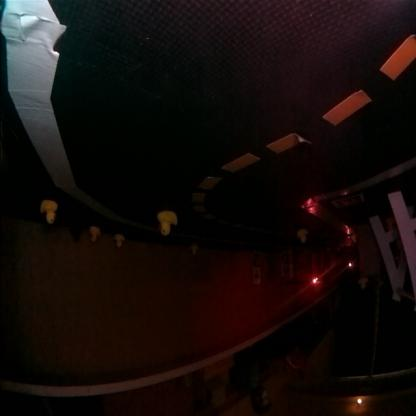Duckie: (158, 212, 178, 236), (41, 202, 58, 224), (91, 228, 101, 242), (298, 230, 308, 244), (114, 236, 124, 248), (191, 247, 199, 254)
QR code: (332, 195, 364, 208), (254, 253, 261, 269)
